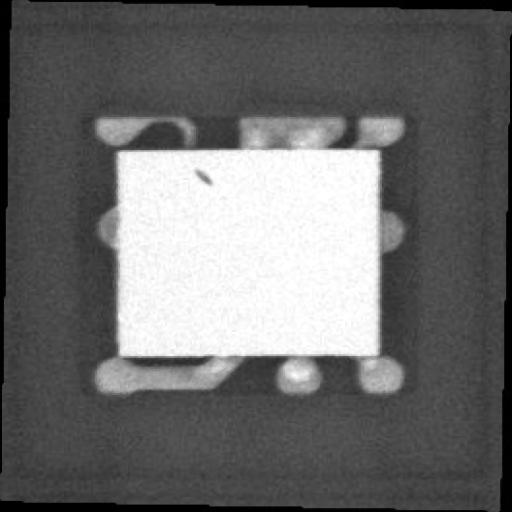DIE_INK: (182, 173, 202, 194)
